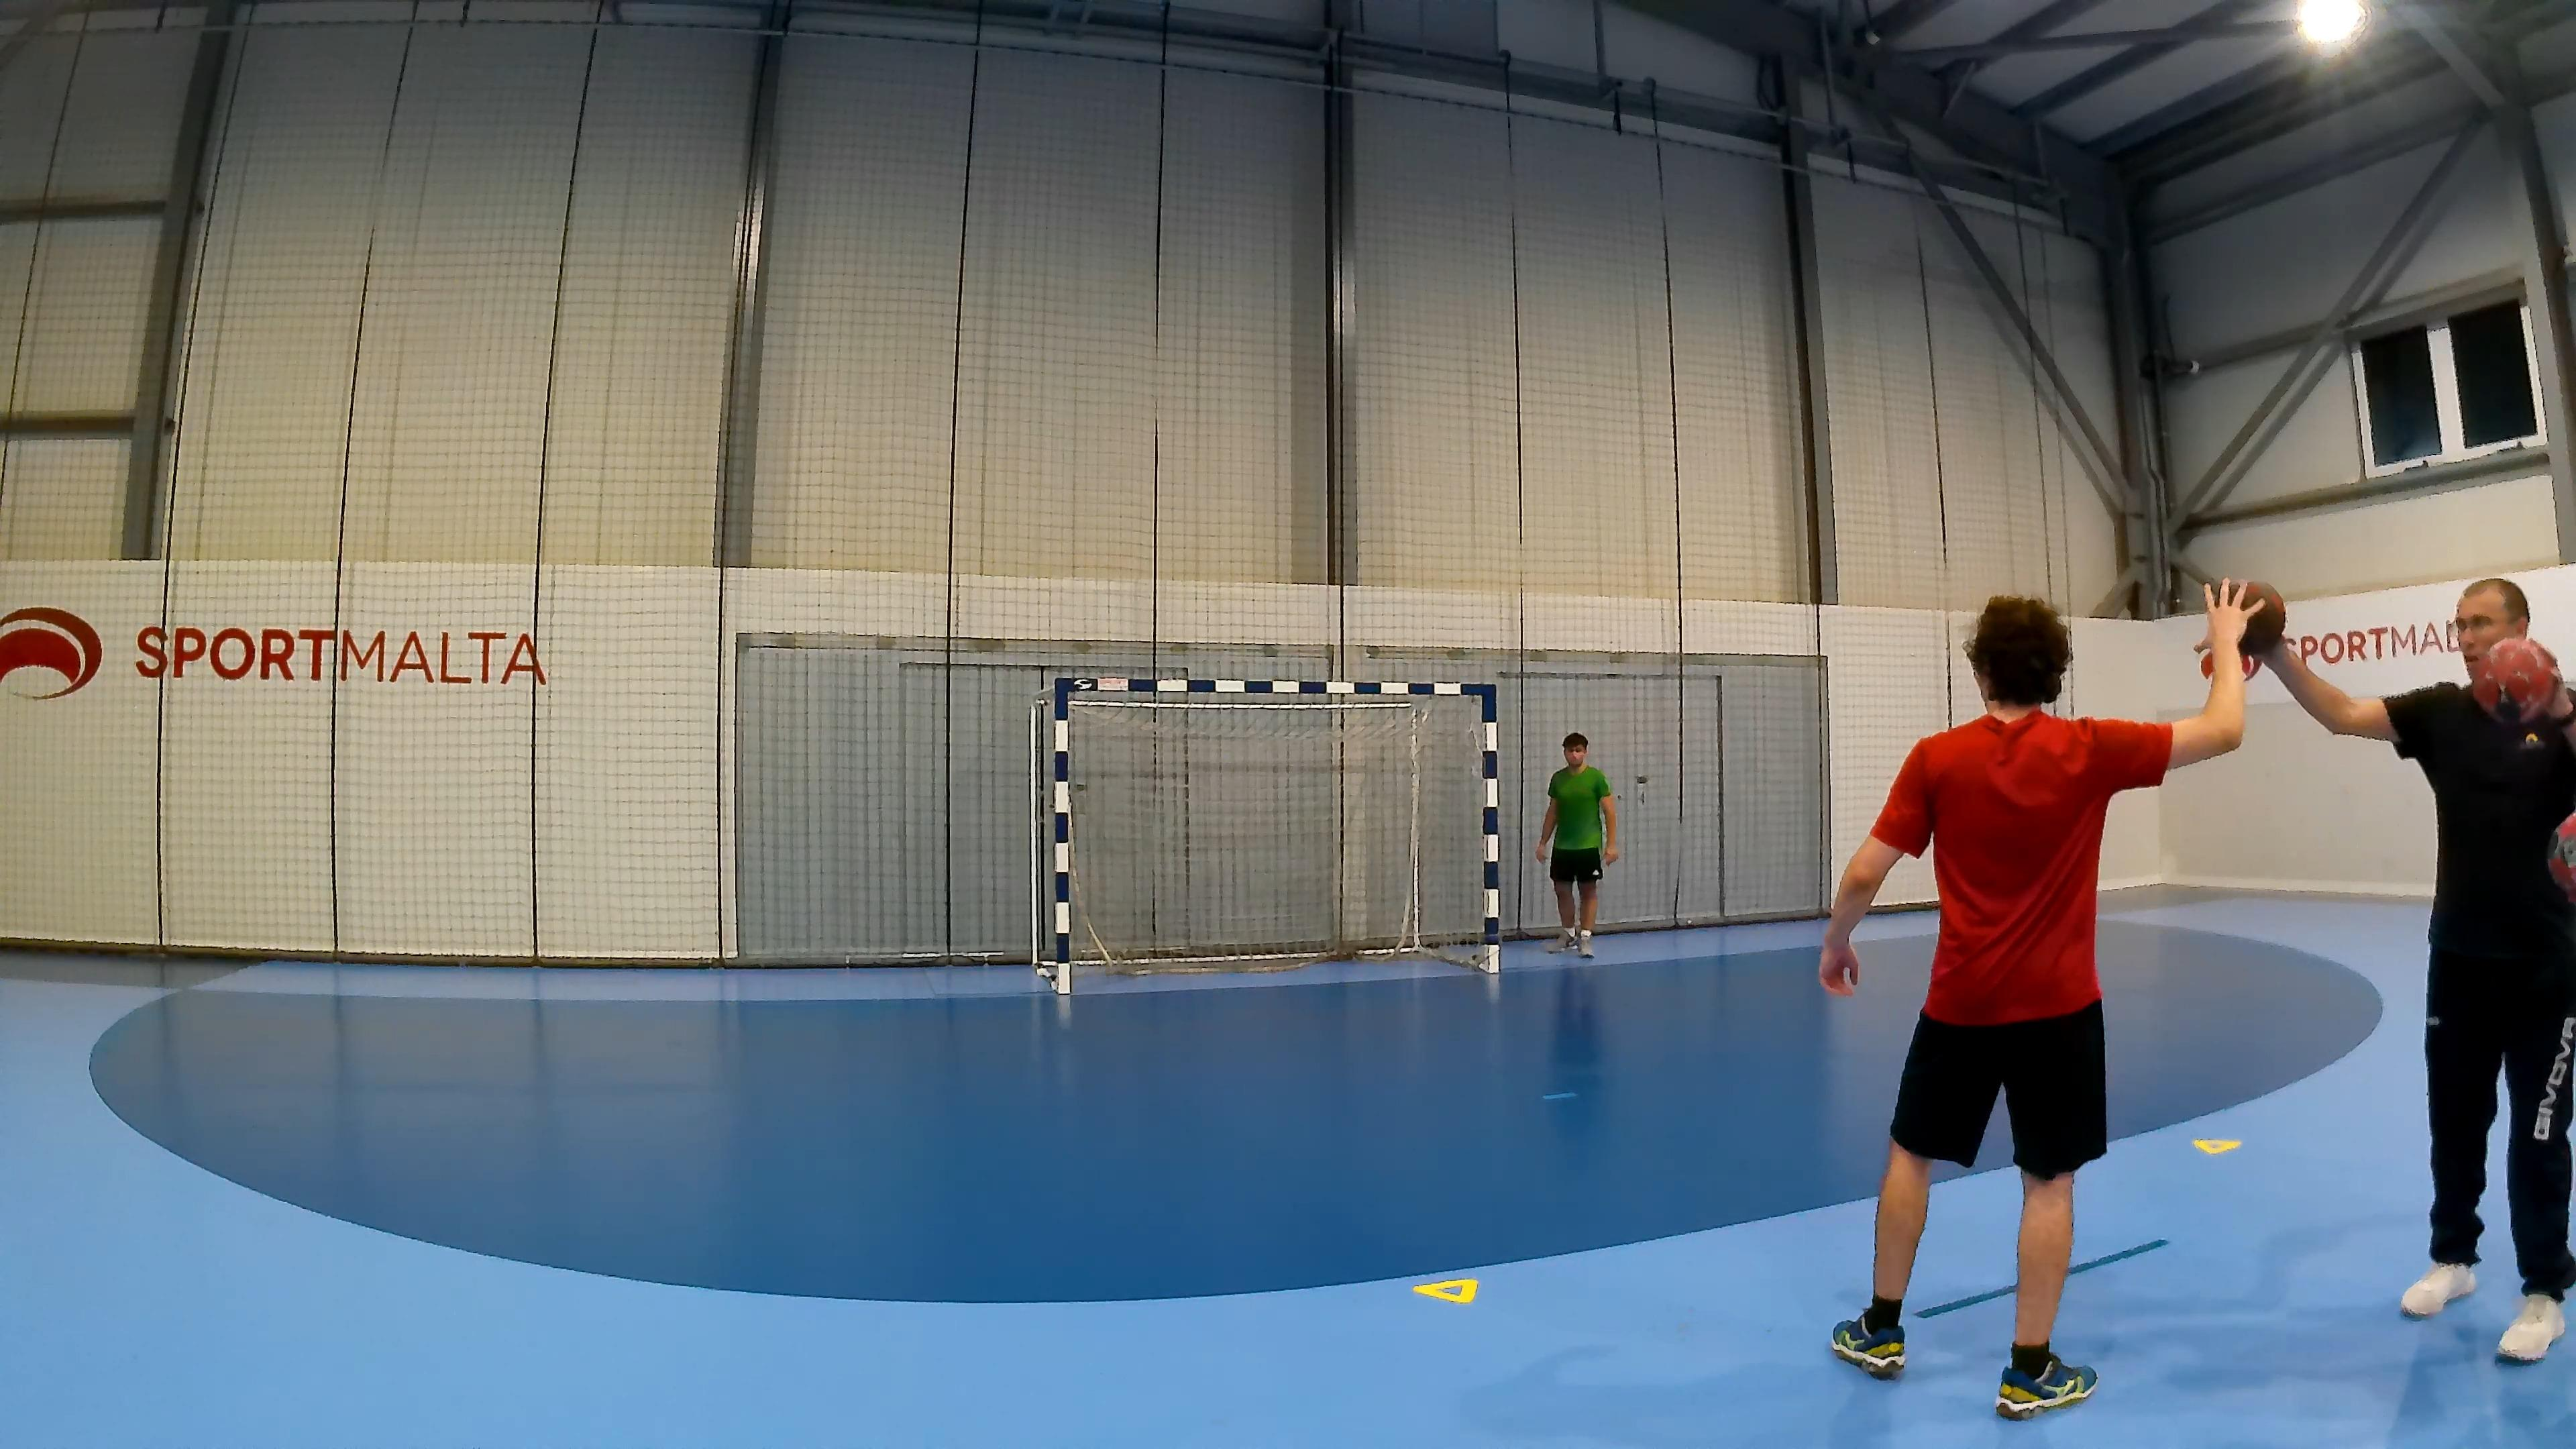handball: (2482, 635, 2558, 718), (2227, 579, 2286, 655)
